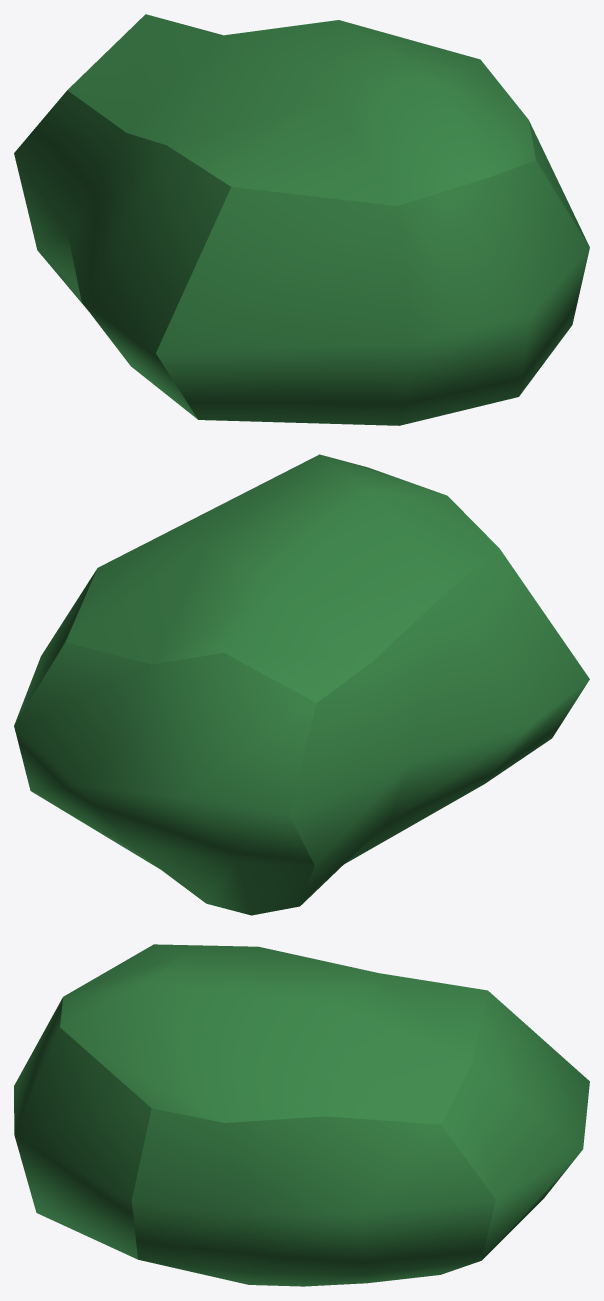
File: Buisson_03.fbx
The picture shows the model from 3 angles, top to bottom: view 1: azimuth 30°, elevation 25°; view 2: azimuth 150°, elevation 25°; view 3: azimuth 270°, elevation 25°; orthographic projection. The views are drawn at different scales.
Visible parts, largest first — view 1: buisson3; view 2: buisson3; view 3: buisson3.
Boxes of the visible parts, left/top/right/bottom form: buisson3: left=14, top=14, right=589, bottom=425; buisson3: left=14, top=454, right=589, bottom=915; buisson3: left=14, top=944, right=589, bottom=1286.
Size of the model in its own units: 24.81 by 16.72 by 30.22.
